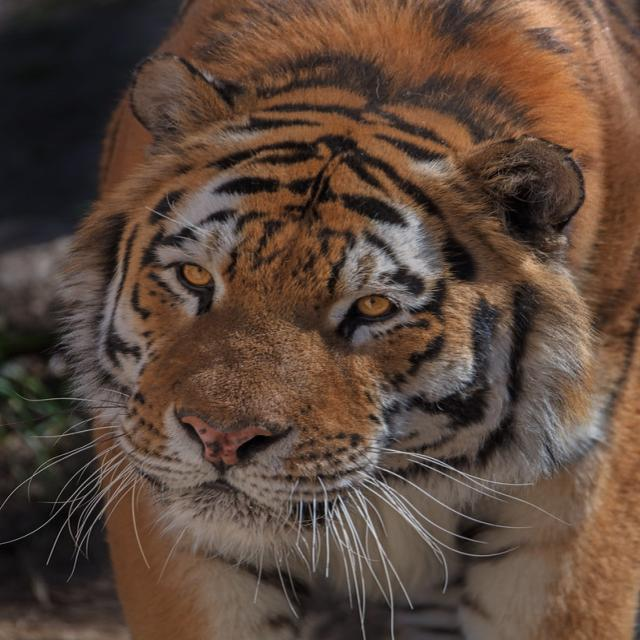Tiger: (17, 1, 632, 628)
